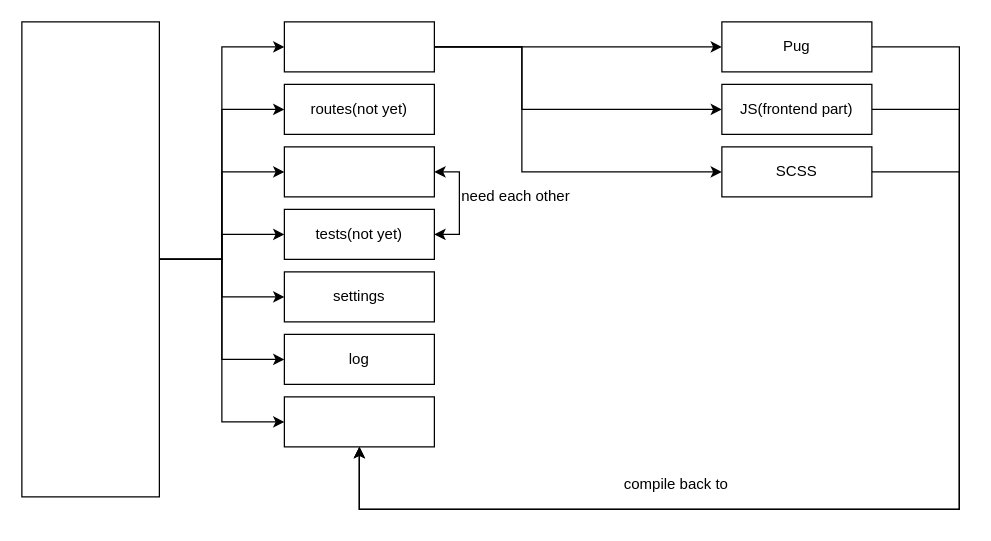
Some shapes in this 991 by 541 pixel diagram are drawn without their labels. Here are the shapes that lost their labels. From the top down, the centre of each, then its label:
At [358,46]: "static".
At [358,171]: "modules".
At [90,259]: "Project".
At [358,421]: "dist".
